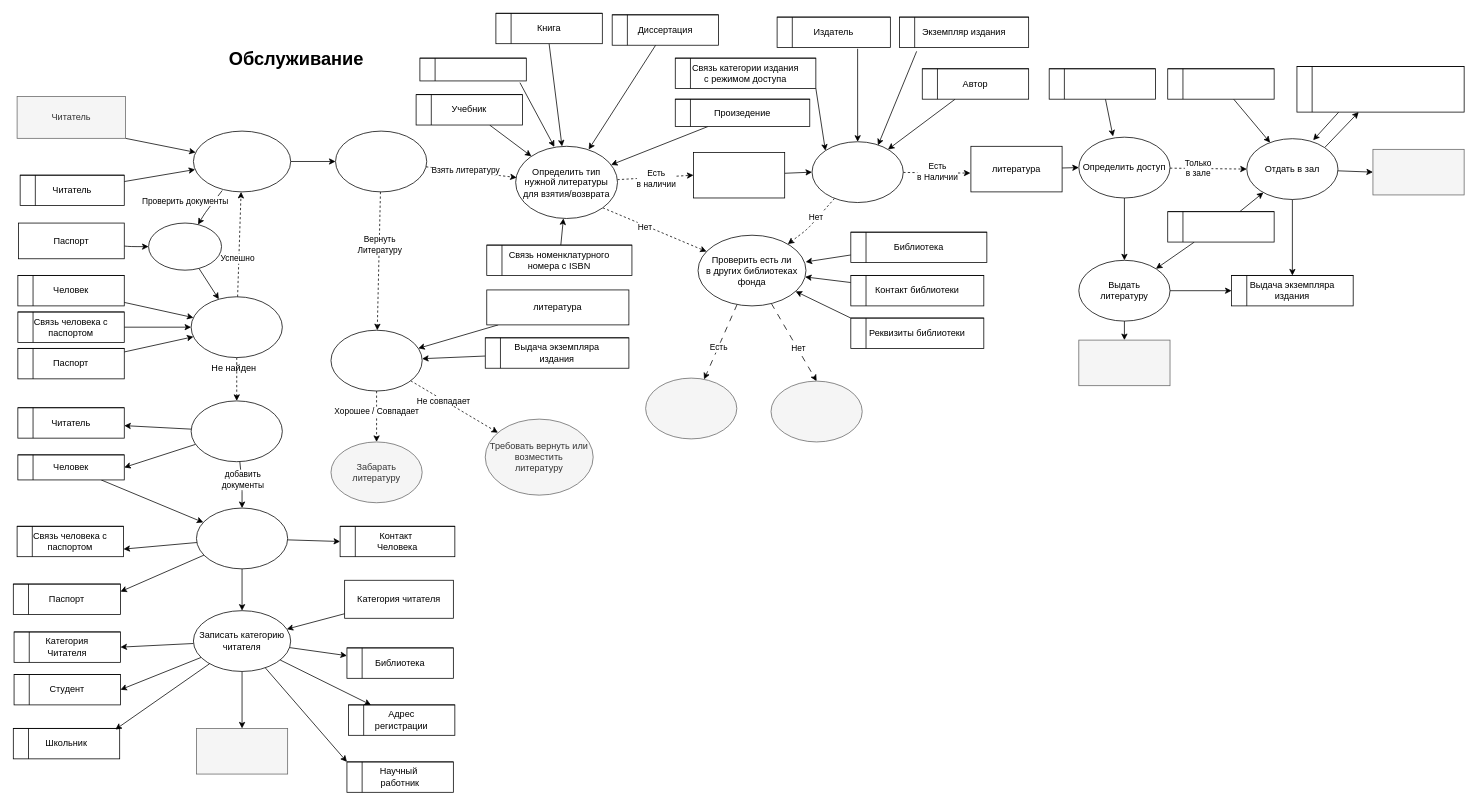
Image size: 1477x806. Some labels were removed from this diagram. The centre of each missing label's shape, as x and y in pixels:
Взять паспорт: pixel 185 246
Журнал: pixel 472 69
Записать паспорт и контакты: pixel 242 538
Зарегестрировать: pixel 236 431
Идентифицировать: pixel 242 161
Литература выдана в зал: pixel 1418 172
Литература выдана на руки: pixel 1124 362
Новый читатель: pixel 242 751
Определить автора и издание: pixel 857 172
Проверить совпадение и состояние литературы: pixel 376 360
Режим доступа: pixel 1102 83
Связь библиотекаря отдела обслуживания с читательным залом: pixel 1380 89
Сказать адрес друго библиотеки: pixel 691 408
Сказать что такой книги нет: pixel 816 411
Сотрудник: pixel 1220 226
Сравнить паспорт с базой и лицом человека: pixel 236 327
Тип произведения: pixel 739 175
Узнасть цель посещения: pixel 381 161
Читательный зал: pixel 1220 83
